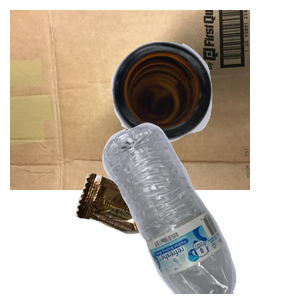cardboard: (10, 10, 250, 190)
glass: (109, 39, 300, 175)
plastic: (100, 120, 300, 300)
trash: (73, 171, 242, 300)
